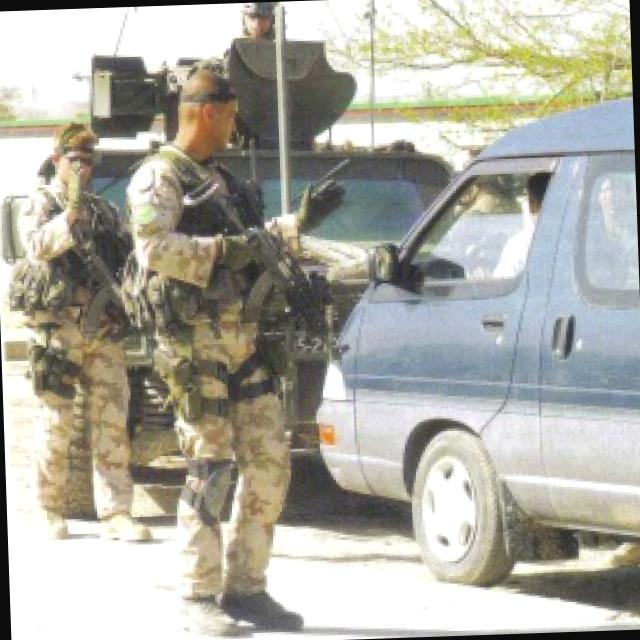long weapon: (222, 222, 377, 386)
